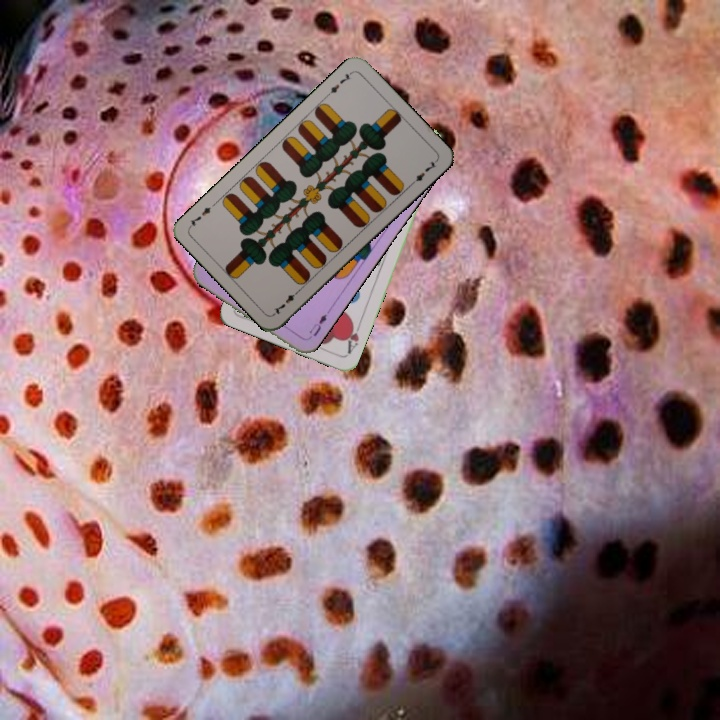E7: (269, 286, 302, 317), (322, 68, 355, 99)
EU: (304, 310, 329, 342)
HA: (341, 318, 364, 356)
